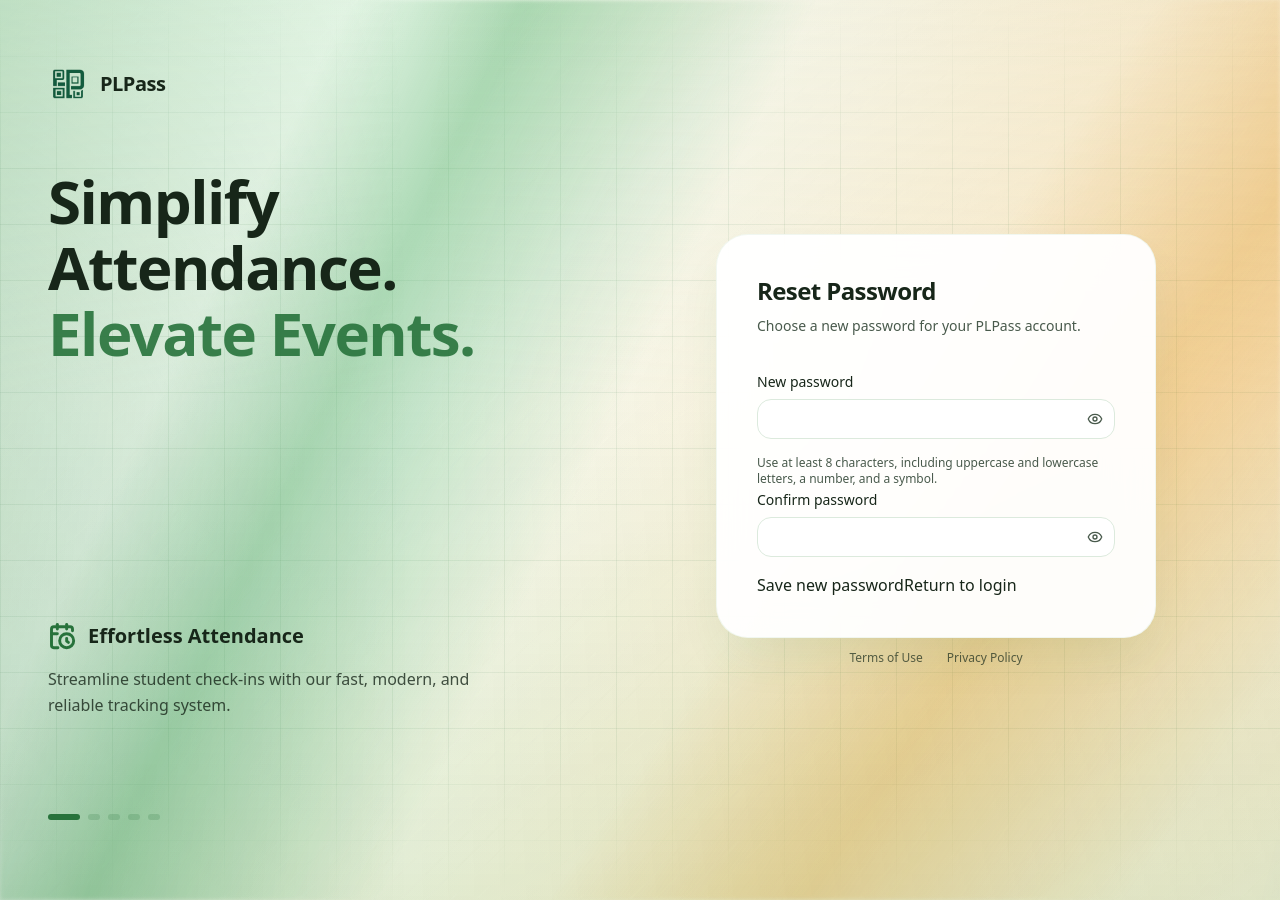
shared user pages › validates the new password before saving a recovery reset
This screenshot has width=1280, height=900.
Expected: the heading "Reset password" is shown, [757,274,936,307]
In the password field labelled "New password": {"x": 936, "y": 419} [757,399,1115,439], type "Password1!"
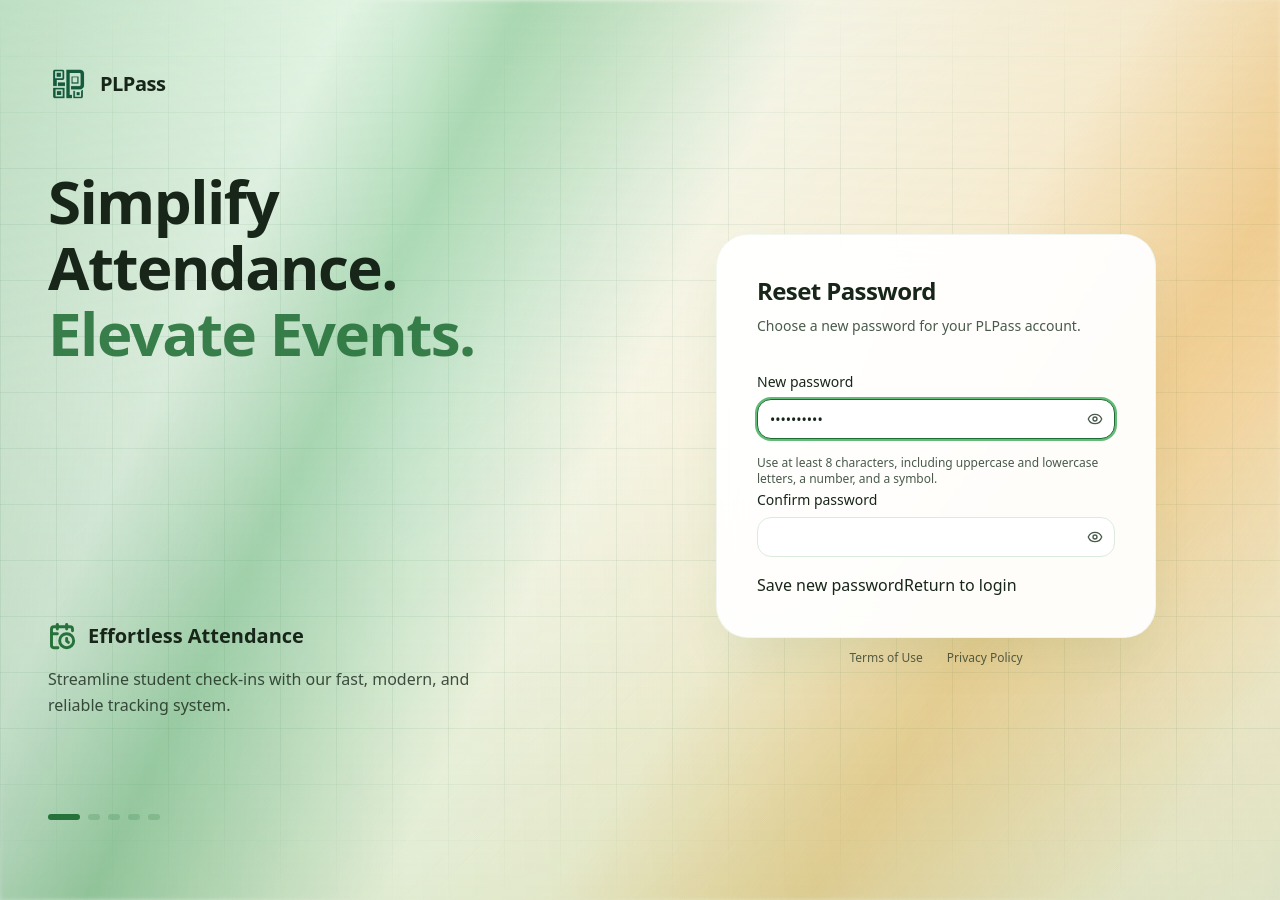
In the password field labelled "Confirm password": {"x": 936, "y": 537} [757,517,1115,557], type "Password2!"
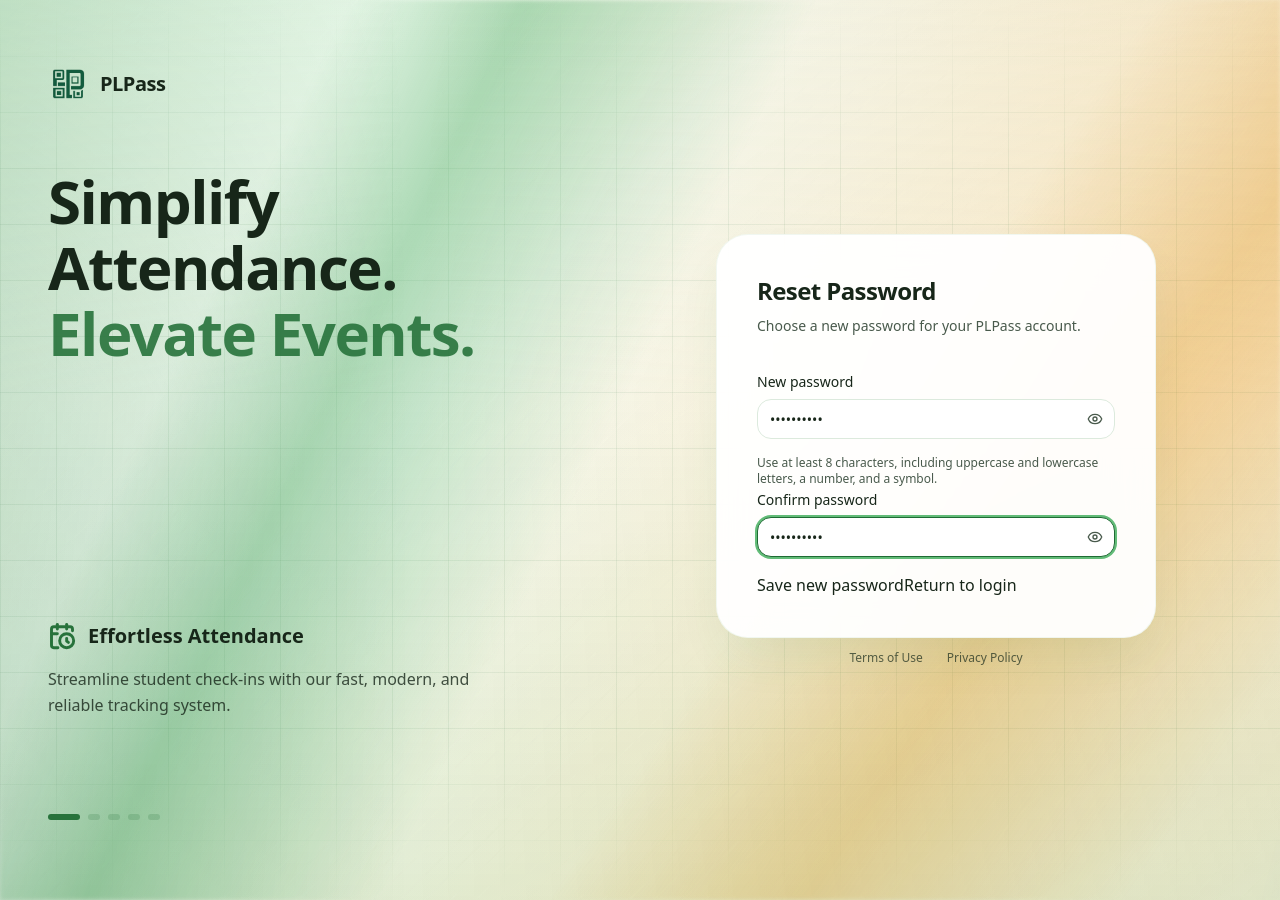
Click the button "Save new password": {"x": 830, "y": 585} [757,573,904,597]
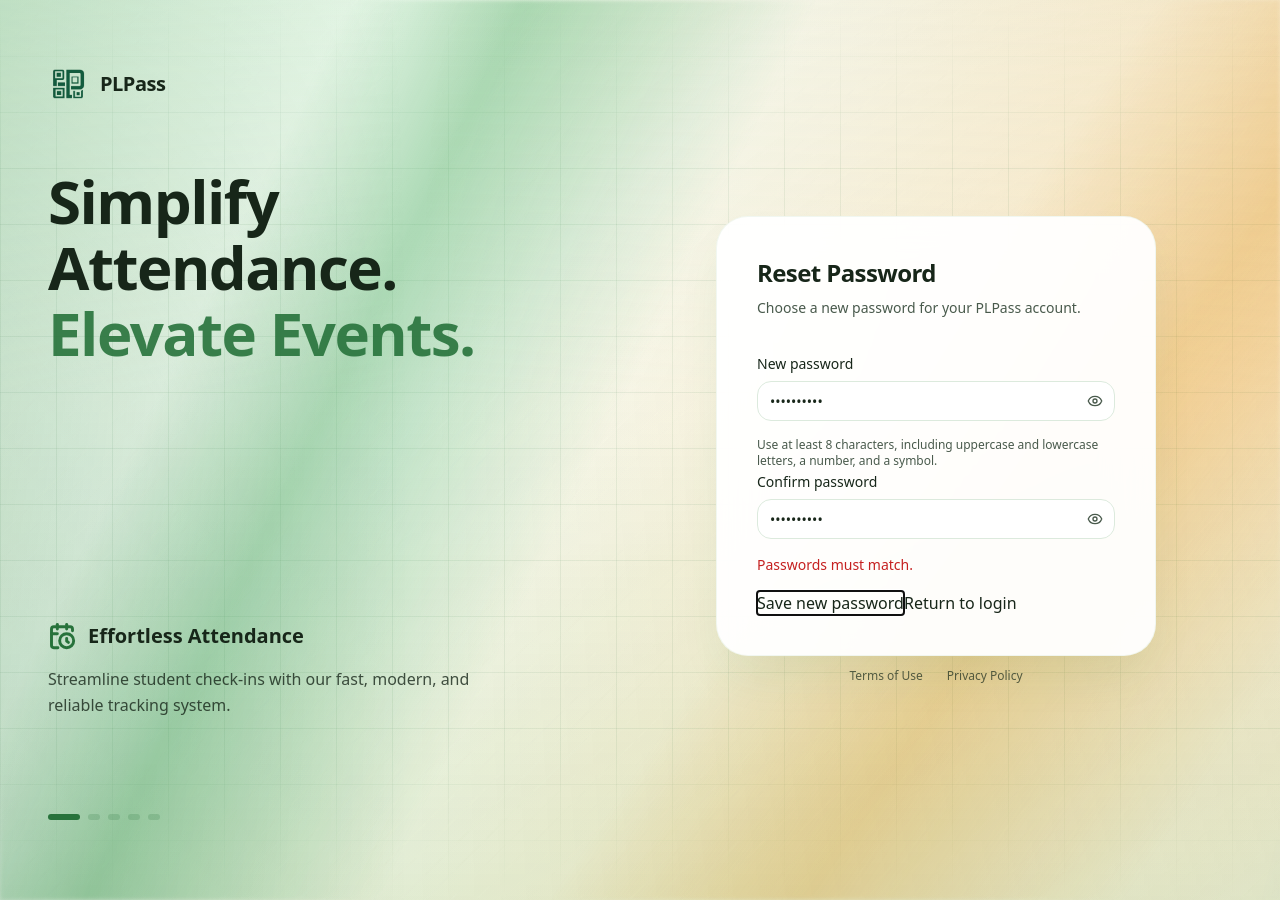
Expected: the text "Passwords must match." is shown, [757,555,913,574]
